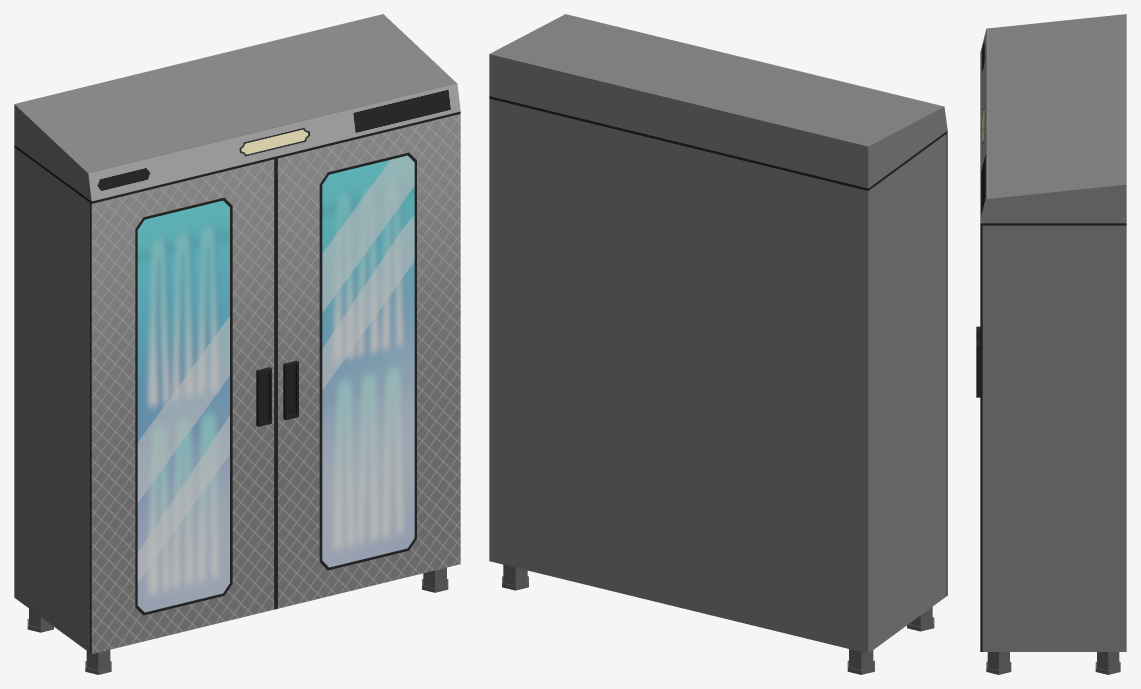
File: sterilizer 1.fbx
The picture shows the model from 3 angles, left to right: view 1: azimuth 30°, elevation 25°; view 2: azimuth 150°, elevation 25°; view 3: azimuth 270°, elevation 25°; orthographic projection. The views are drawn at different scales.
Parts seen in each view (by area): view 1: sterilizer; view 2: sterilizer; view 3: sterilizer.
Boxes of the visible parts, x1,y1,x2,y2 form: sterilizer: (14,14,460,674); sterilizer: (489,14,947,674); sterilizer: (976,14,1126,674).
Size of the model in its own units: 2.56 by 3.45 by 0.9568.
1 material, 1 textured.
